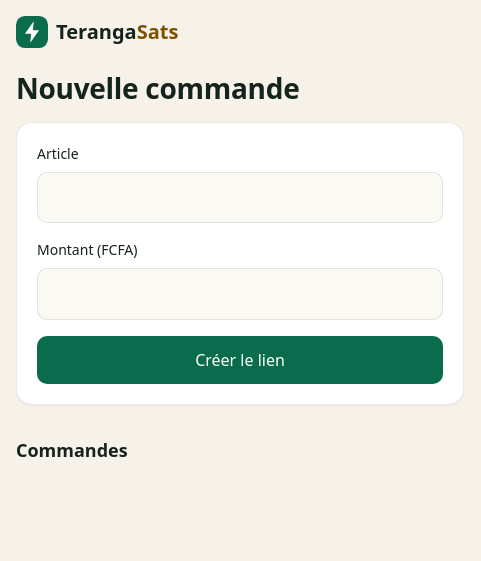
Test: Vendor › rejette un montant invalide (RF5)
In the field labelled "Article": (240, 197) top-left (37, 172), bottom-right (443, 223), type "Mocassins"
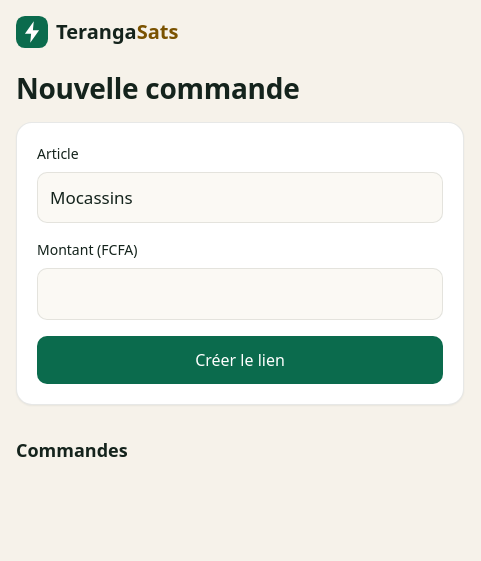
In the field labelled "Montant (FCFA)": (240, 294) top-left (37, 268), bottom-right (443, 320), type "0"
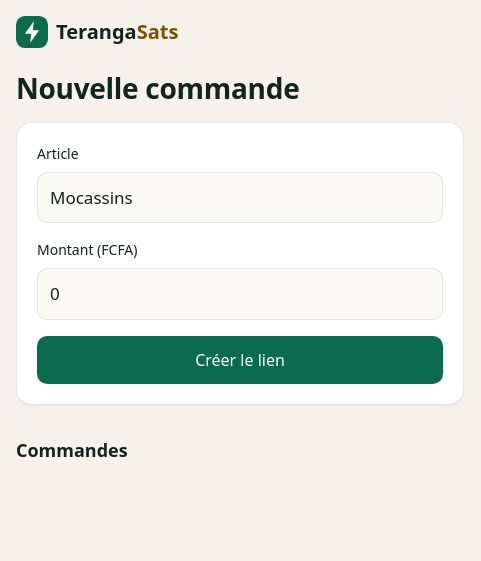
Click the button "Créer le lien": (240, 360) top-left (37, 336), bottom-right (443, 384)
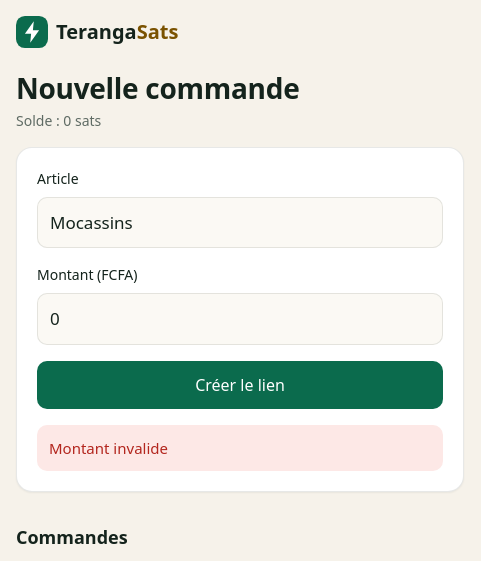
Now the text "Montant invalide" is shown, box top-left (37, 425), bottom-right (443, 471)
